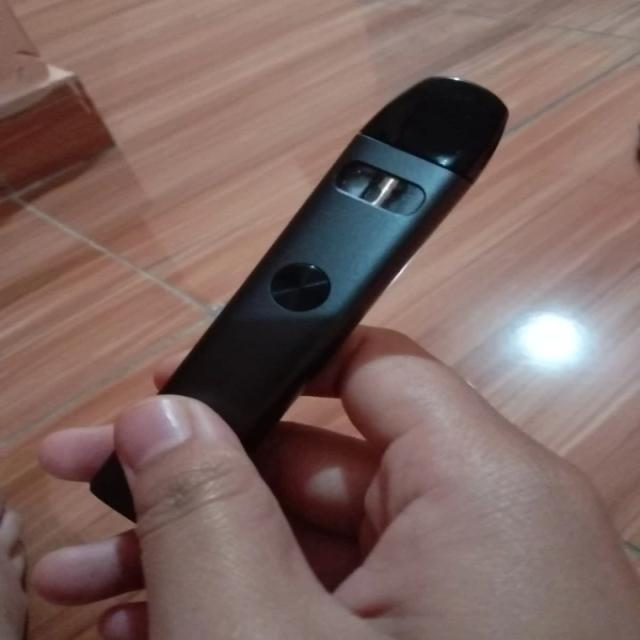Hazard: (91, 72, 518, 534)
